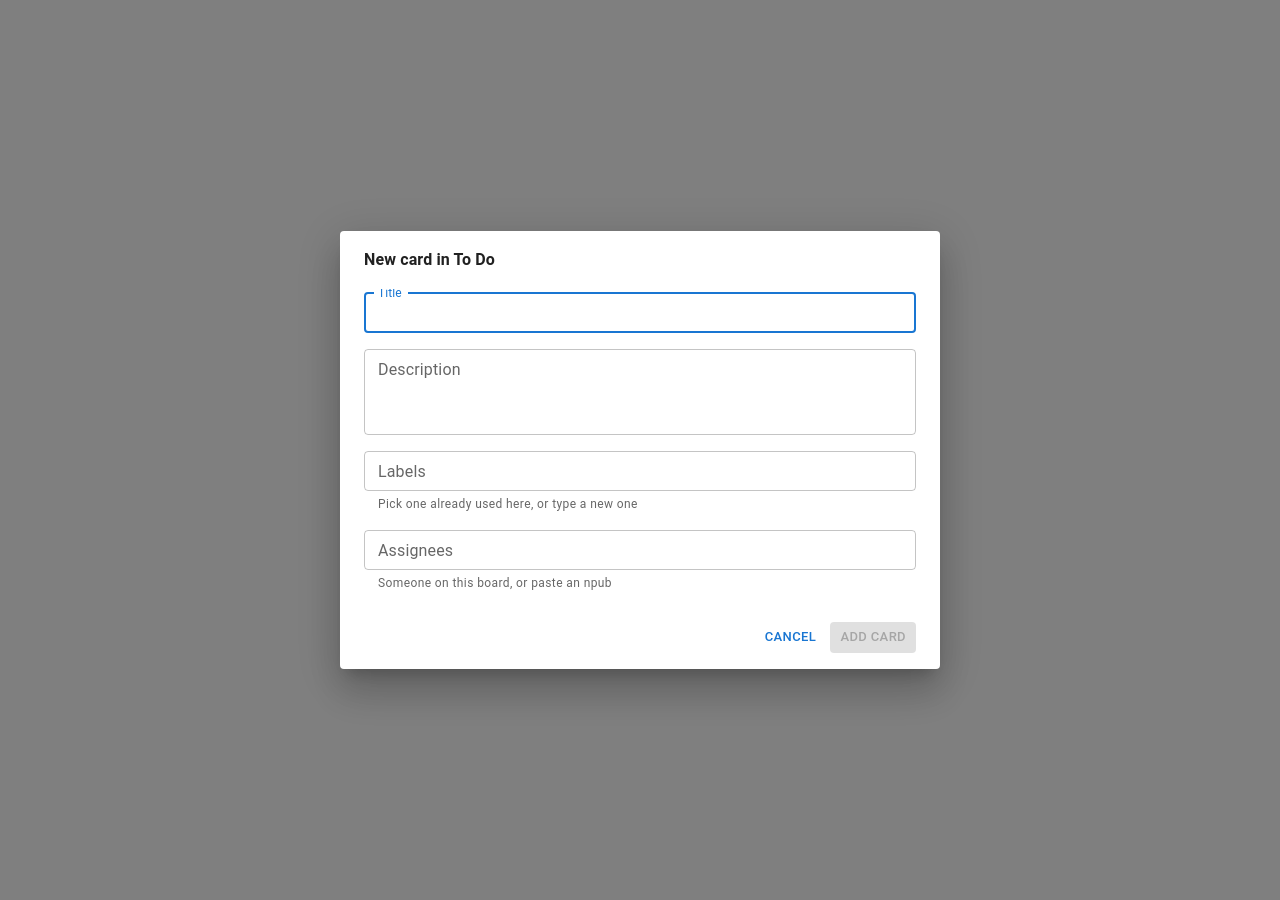
Scenario: CardDialog › blocks submission until the card has a title
Expected: the button "Add card" is disabled, [830,622,916,653]
Type "Write docs" into the field labelled "Title" at coordinates (640, 312), box [364,292,916,332]
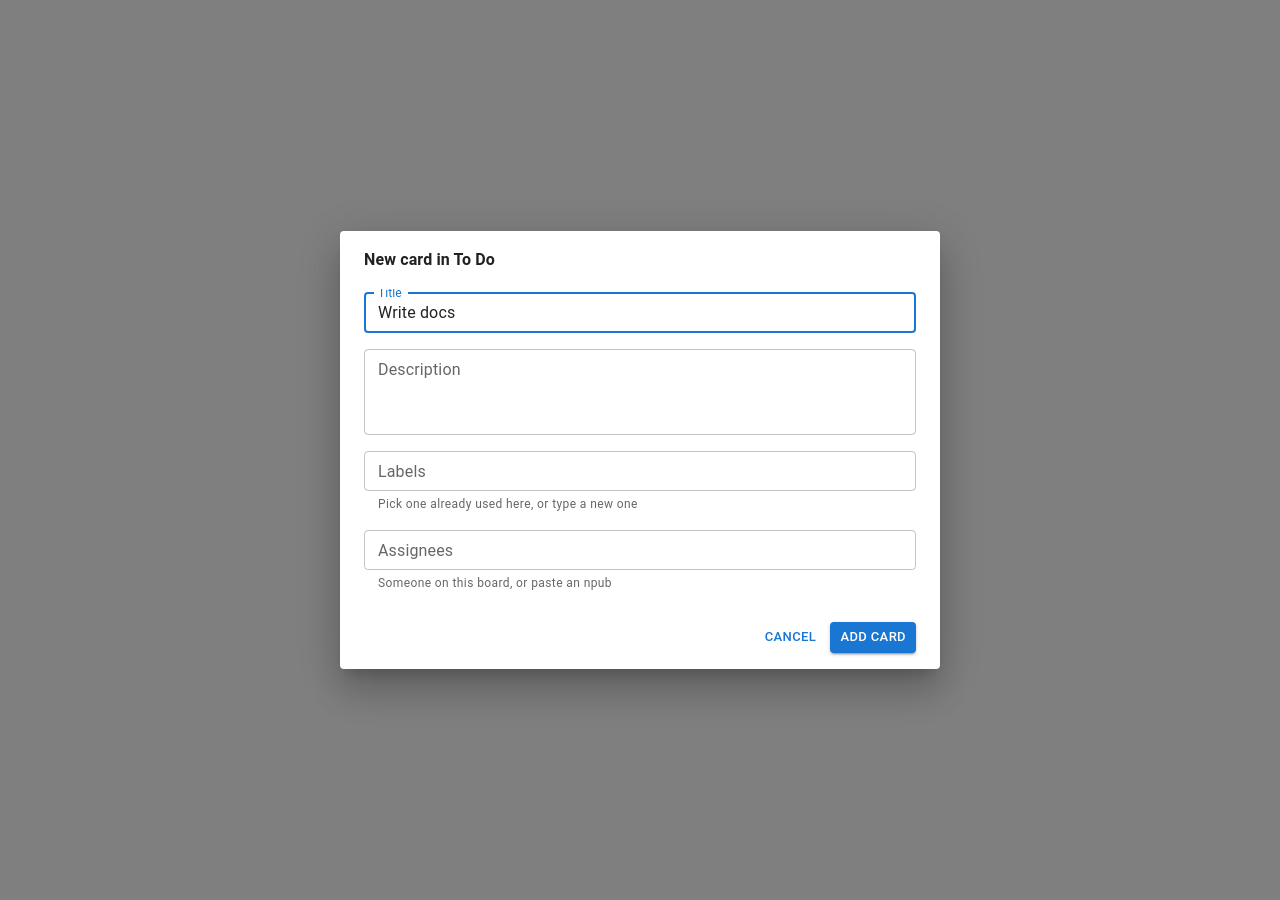
Expected: the button "Add card" is enabled, [830,622,916,653]
